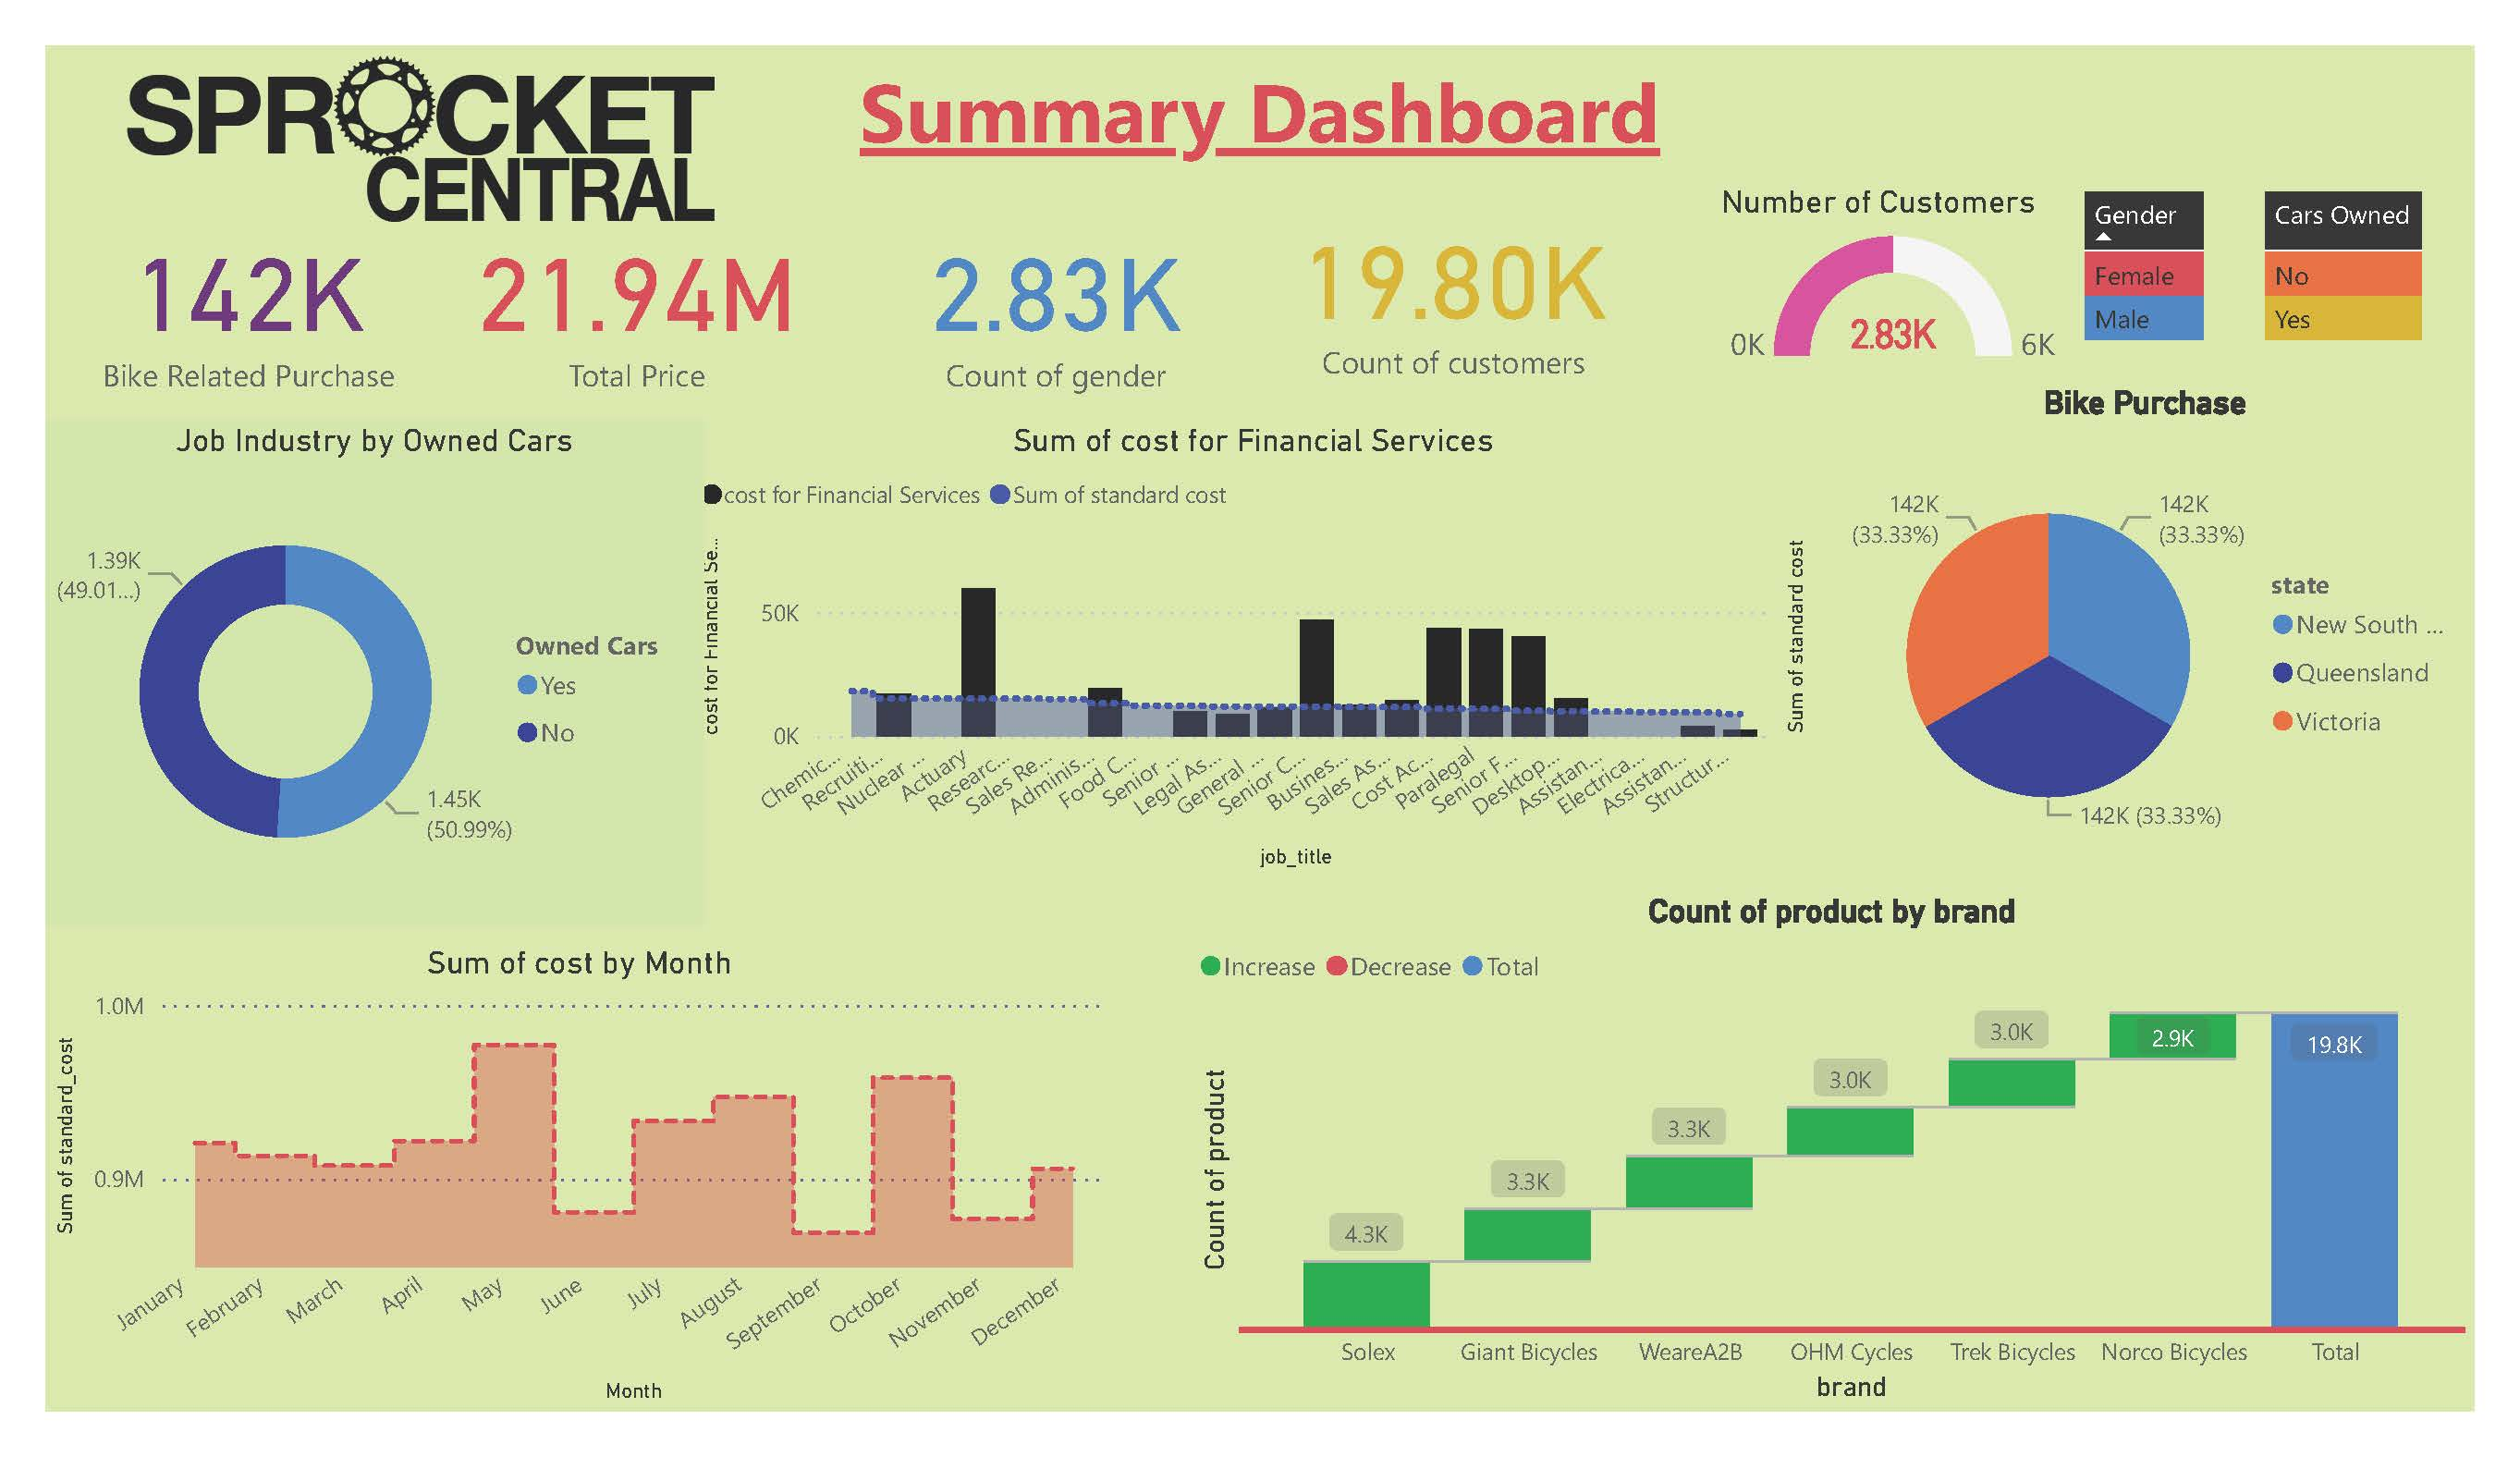

The page's visual inventory and layout, read from the dashboard file:
{"tool":"powerbi","page":{"name":"Page 1","canvas":[1280,720],"ordinal":0},"visuals":[{"type":"tableEx","fields":{"Values":["CustomerDemographic.owns_car"]},"box":[1163.6,72.5,116.4,94.9],"z":0},{"type":"lineClusteredColumnComboChart","title":"Sum of cost for Financial Services","fields":{"Category":["CustomerDemographic.job_title"],"Y2":["Sum(Transactions.standard_cost)"],"Y":["FilteredEval(Sum(Transactions.standard_cost), [{Condition(expr)}])"]},"box":[339.8,198.4,593.4,239.8],"z":1000},{"type":"textbox","box":[0,0,1280,72.5],"z":2000},{"type":"image","box":[0,0,403.7,119.9],"z":3000},{"type":"tableEx","fields":{"Values":["CustomerDemographic.gender"]},"box":[1068.7,72.5,75,94.9],"z":4000},{"type":"donutChart","fields":{"Category":["CustomerDemographic.owns_car","CustomerDemographic.gender"],"Y":["CountNonNull(CustomerDemographic.job_industry_category)"]},"box":[0,198.4,346.7,265.7],"z":5000},{"type":"card","fields":{"Values":["Sum(CustomerDemographic.past_3_years_bike_related_purchases)"]},"box":[0,72.5,213.9,125.9],"z":6000},{"type":"gauge","fields":{"Y":["CountNonNull(CustomerDemographic.customer_id)"]},"box":[878.1,72.5,190.6,105.2],"z":7000},{"type":"waterfallChart","title":"Count of product by brand","fields":{"Category":["Transactions.brand"],"Y":["CountNonNull(Transactions.product_size)"]},"box":[602.9,445.9,677.1,274.3],"z":8000},{"type":"card","fields":{"Values":["Sum(Transactions.list_price)"]},"box":[199.2,72.5,224.3,125.9],"z":9000},{"type":"areaChart","title":"Sum of cost by Month","fields":{"Category":["Transactions.transaction_date.Variation.Date Hierarchy.Month"],"Y":["Sum(Transactions.standard_cost)"]},"box":[0,472.7,563.2,247.5],"z":10000},{"type":"pieChart","title":"Bike Purchase","fields":{"Category":["CustomerAddress.state"],"Y":["Sum(CustomerDemographic.past_3_years_bike_related_purchases)"]},"box":[933.3,177.7,346.7,268.2],"z":11000},{"type":"card","fields":{"Values":["CountNonNull(CustomerDemographic.gender)"]},"box":[423.5,72.5,217.4,125.9],"z":12000},{"type":"card","fields":{"Values":["CountNonNull(Transactions.customer_id)"]},"box":[630.5,72.5,222.5,112.1],"z":12001}]}

Visuals, with their boxes in screenshot pixels (x1, y1, x2, y2), scaled from the page's 1280x720 canvas onto the 2520x1457 screenshot:
tableEx - CustomerDemographic.owns_car: bbox=[2291, 147, 2519, 338]
"Sum of cost for Financial Services" lineClusteredColumnComboChart: bbox=[669, 401, 1837, 887]
textbox: bbox=[0, 0, 2519, 147]
image: bbox=[0, 0, 795, 242]
tableEx - CustomerDemographic.gender: bbox=[2104, 147, 2252, 338]
donutChart - CustomerDemographic.owns_car x CustomerDemographic.gender: bbox=[0, 401, 682, 939]
card - Sum(CustomerDemographic.past_3_years_bike_related_purchases): bbox=[0, 147, 422, 401]
gauge - CountNonNull(CustomerDemographic.customer_id): bbox=[1729, 147, 2104, 360]
"Count of product by brand" waterfallChart: bbox=[1187, 902, 2519, 1456]
card - Sum(Transactions.list_price): bbox=[392, 147, 834, 401]
"Sum of cost by Month" areaChart: bbox=[0, 957, 1108, 1456]
"Bike Purchase" pieChart: bbox=[1838, 360, 2519, 902]
card - CountNonNull(CustomerDemographic.gender): bbox=[834, 147, 1262, 401]
card - CountNonNull(Transactions.customer_id): bbox=[1242, 147, 1680, 373]
